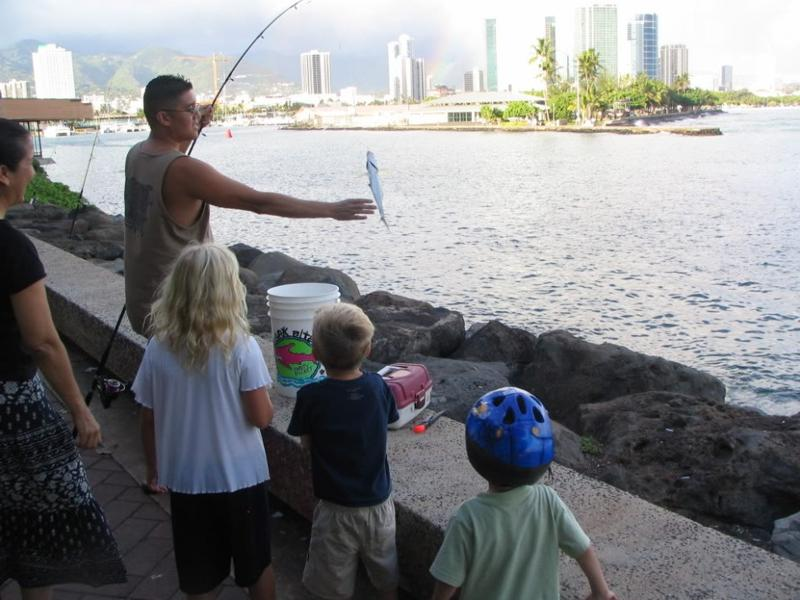person: (125, 75, 379, 340)
